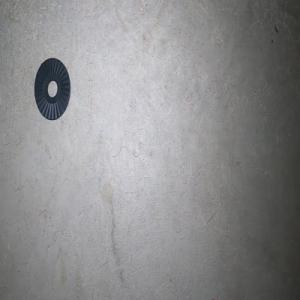Washer: (34, 57, 70, 120)
